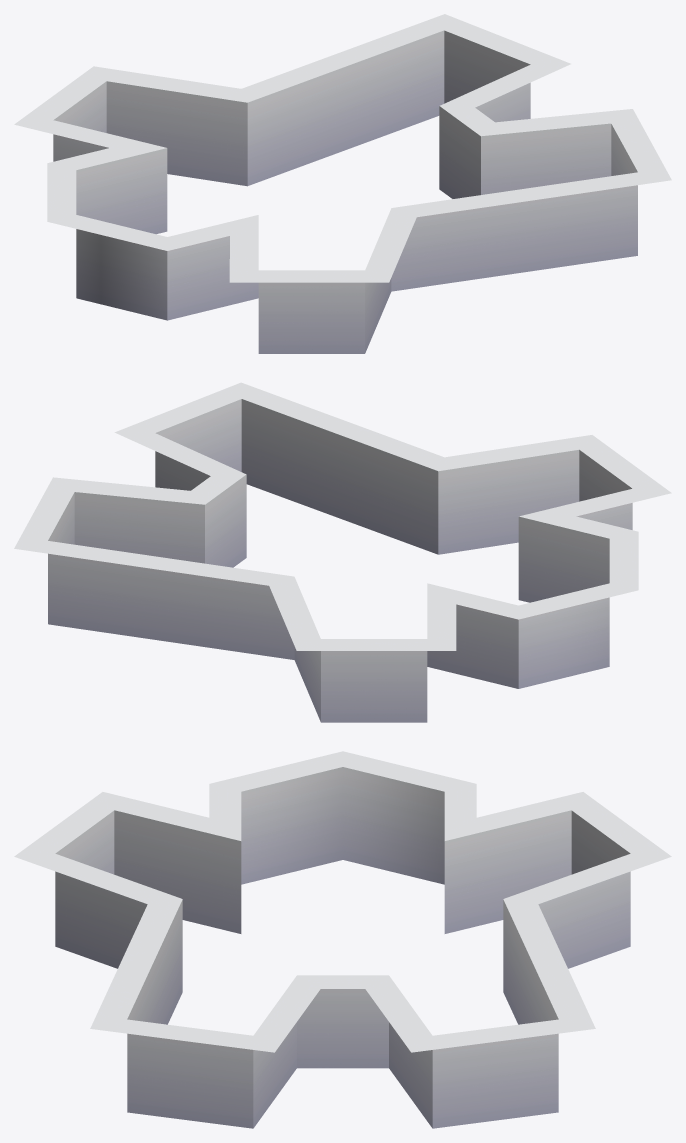
File: ginger-bread-cutter.glb
3 views of the same model, one above another, from view 1: azimuth 30°, elevation 25°; view 2: azimuth 150°, elevation 25°; view 3: azimuth 270°, elevation 25° (orthographic). The views are drawn at different scales.
Parts seen in each view (by area): view 1: ginger-bread-cutter; view 2: ginger-bread-cutter; view 3: ginger-bread-cutter.
Part boxes in pixels (x1,y1,x2,y2): ginger-bread-cutter: (14, 14, 671, 353); ginger-bread-cutter: (14, 382, 671, 722); ginger-bread-cutter: (14, 751, 671, 1128).
Size of the model in its own units: 0.2919 by 0.042 by 0.2693.
Materials: 1 (1 with a texture image).
